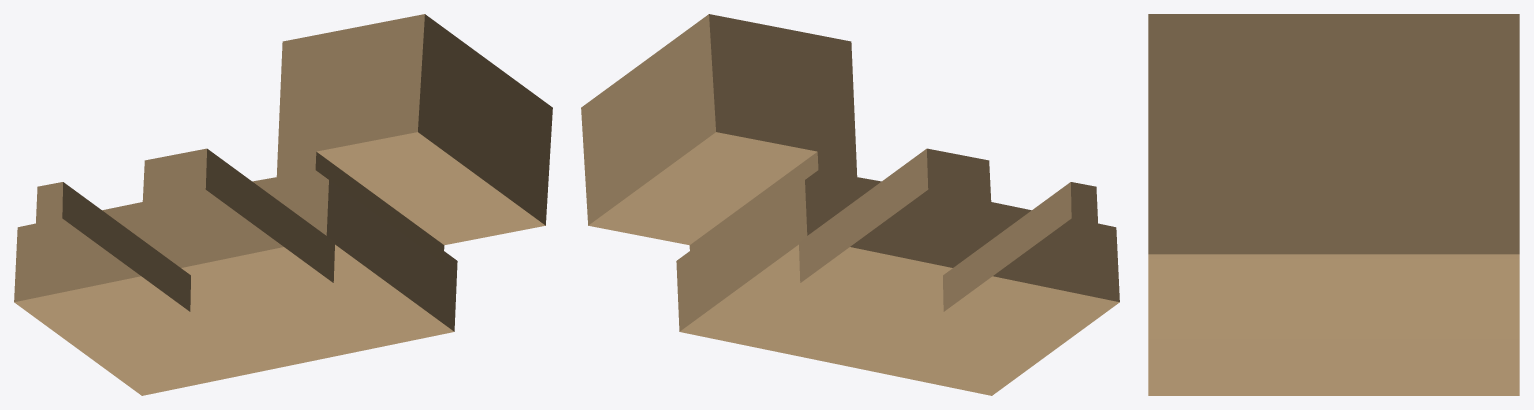
3 views of the same model, side by side, from view 1: azimuth 30°, elevation 25°; view 2: azimuth 150°, elevation 25°; view 3: azimuth 270°, elevation 25° (orthographic). The views are drawn at different scales.
Parts seen in each view (by area): view 1: 0_0_3_1_2_0_2_1; view 2: 0_0_3_1_2_0_2_1; view 3: 0_0_3_1_2_0_2_1.
Part boxes in pixels (x1,y1,x2,y2): 0_0_3_1_2_0_2_1: (14,14,552,395); 0_0_3_1_2_0_2_1: (581,14,1119,395); 0_0_3_1_2_0_2_1: (1148,14,1519,395).
Bounding box in the file's own units: 55.61 × 26.83 × 30.
